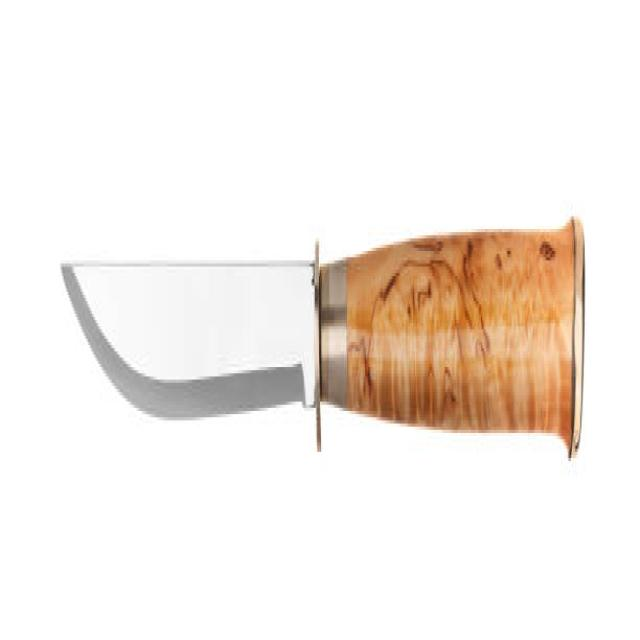knife: (58, 207, 589, 478)
